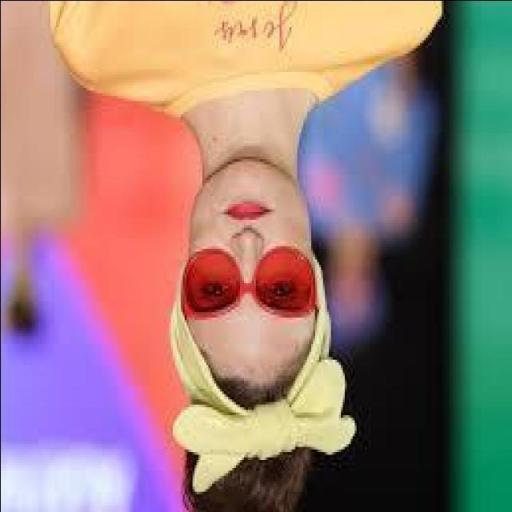glasses: (154, 228, 342, 339)
